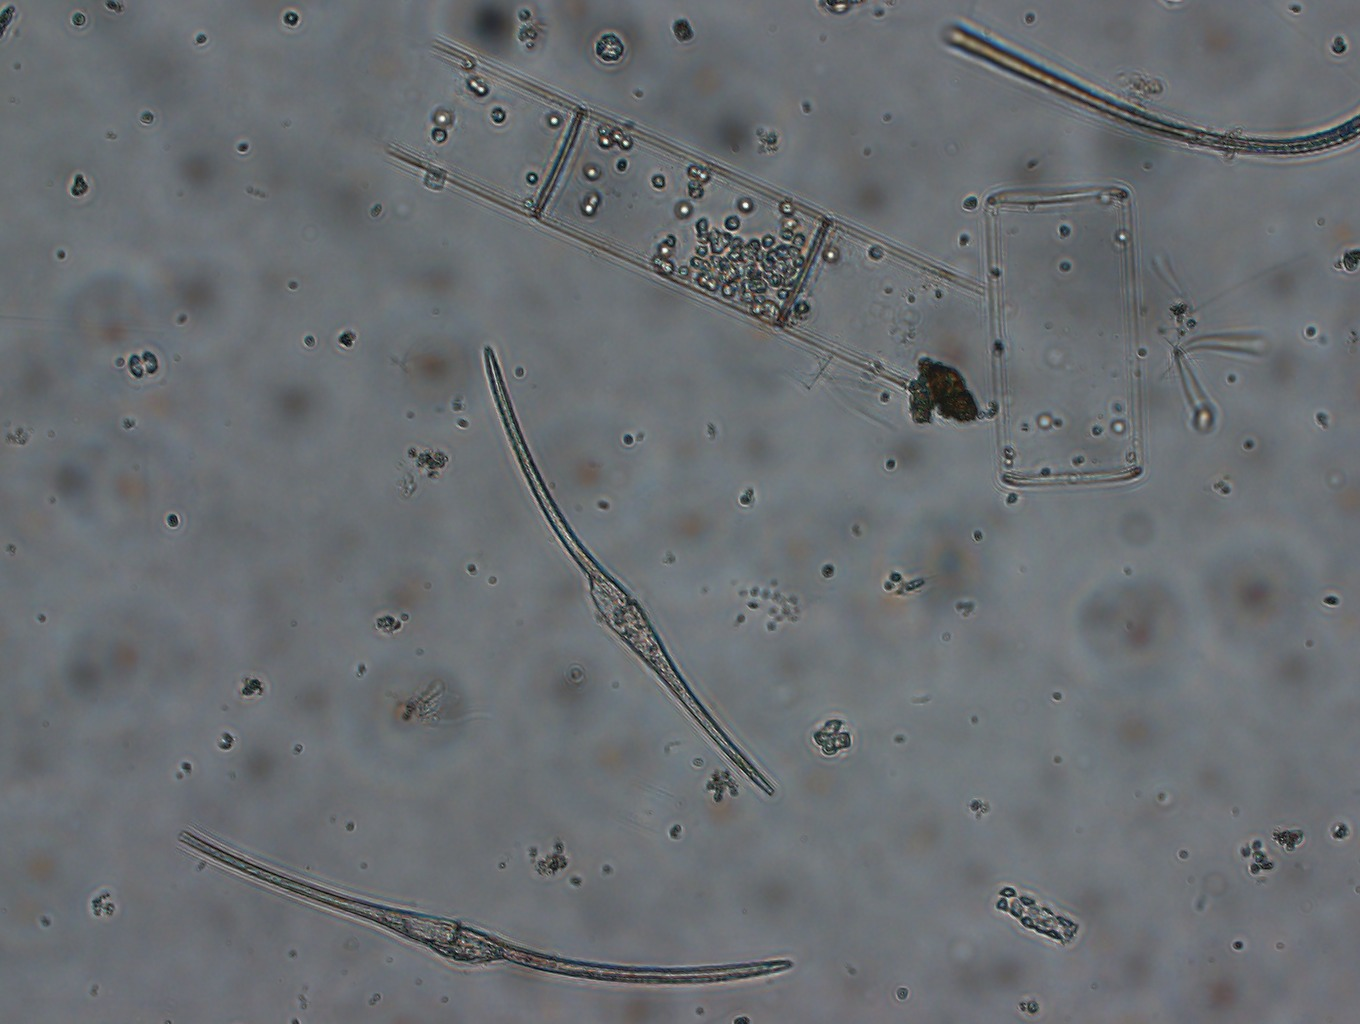ceratium fusus: (472, 337, 781, 803), (172, 820, 799, 991)
guinardia flaccida: (375, 19, 984, 400), (969, 173, 1158, 499)
